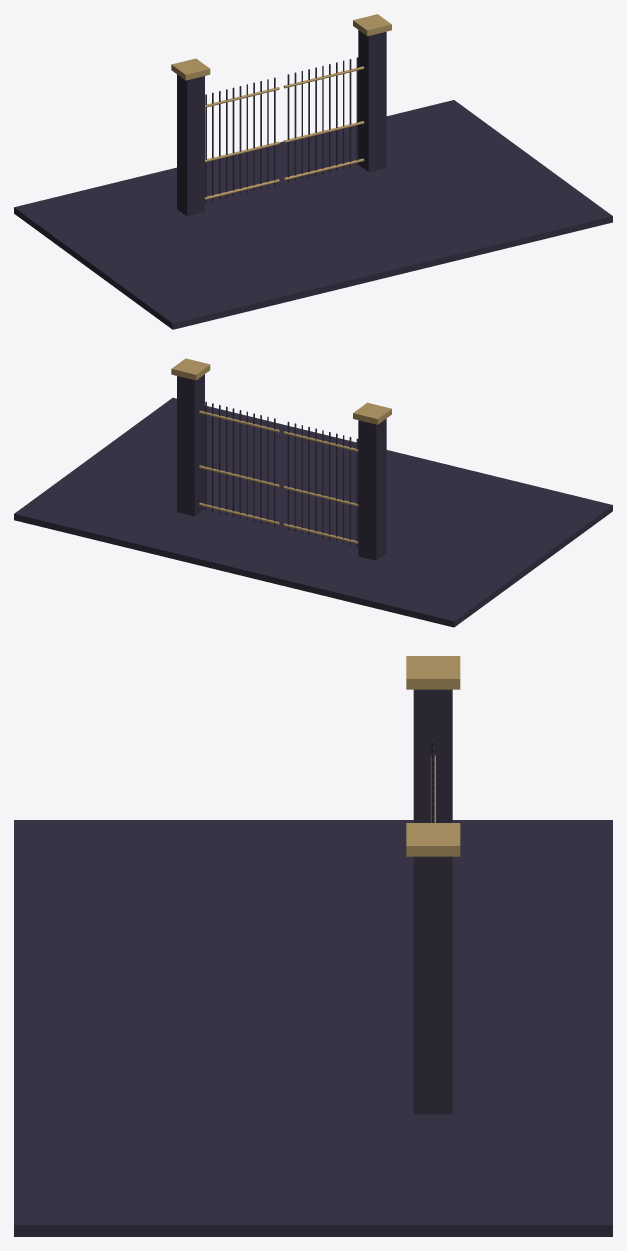
Rendered from park_main_gate.glb.
3 renders of one model, top to bottom at view 1: azimuth 30°, elevation 25°; view 2: azimuth 150°, elevation 25°; view 3: azimuth 270°, elevation 25°, orthographic. The views are drawn at different scales.
Visible parts, largest first — view 1: Runtime_park_main_gate; view 2: Runtime_park_main_gate; view 3: Runtime_park_main_gate.
Part boxes in pixels (bbox=[...]): Runtime_park_main_gate: bbox=[14, 14, 612, 329]; Runtime_park_main_gate: bbox=[14, 358, 612, 627]; Runtime_park_main_gate: bbox=[14, 656, 612, 1236].
Size of the model in its own units: 16 by 5.22 by 10.
